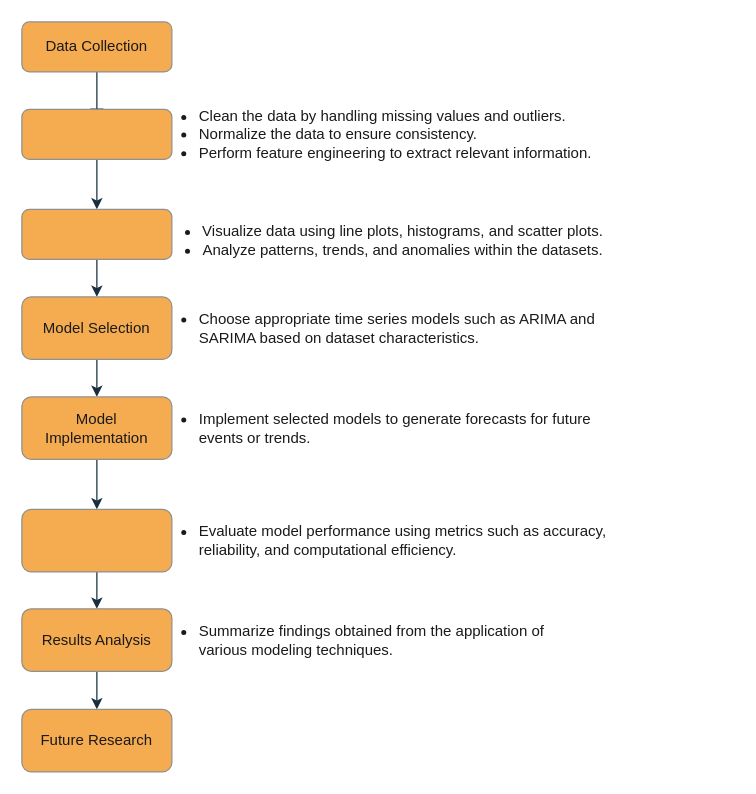
Image size: 756x794. Some labels were removed from this diagram. Here are the shapes that lost their labels. From the top down, the centre of each, then its label:
(x=96, y=133): Data Preprocessing
(x=96, y=233): Exploratory Data Analysis
(x=96, y=540): Model Evaluation
